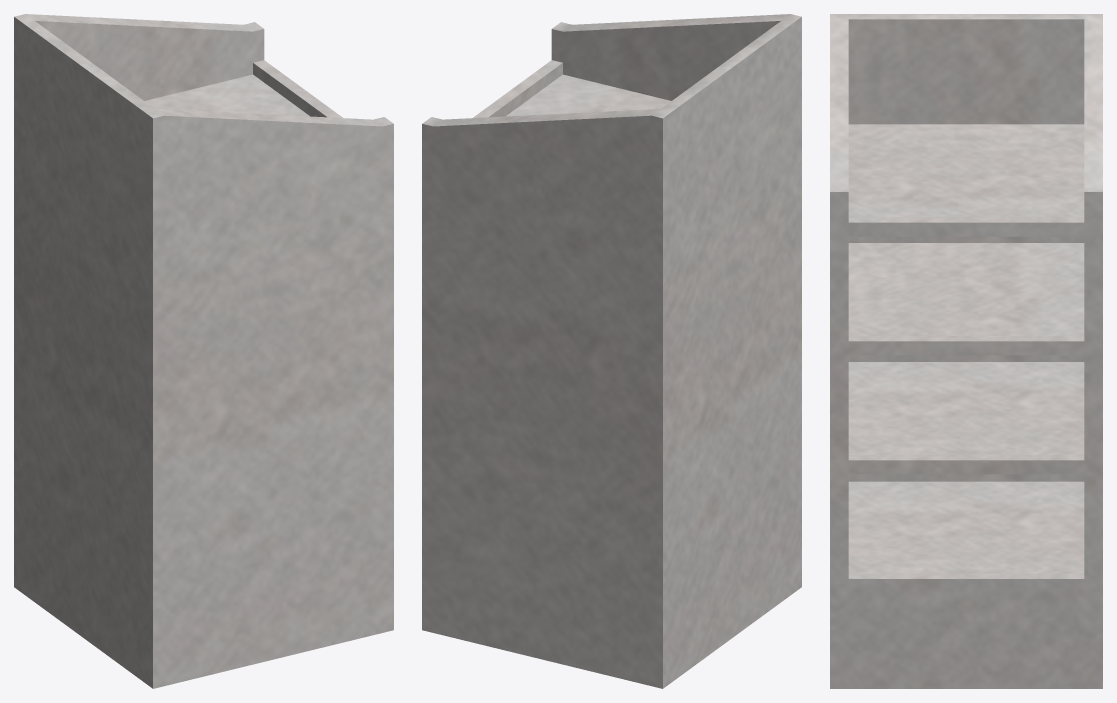
File: shelf_Cardboard.fbx
3 views of the same model, side by side, from view 1: azimuth 30°, elevation 25°; view 2: azimuth 150°, elevation 25°; view 3: azimuth 270°, elevation 25° (orthographic).
Visible parts, largest first — view 1: cardboard_shelf; view 2: cardboard_shelf; view 3: cardboard_shelf.
Part boxes in pixels (x1=…): cardboard_shelf: x1=14, y1=14, x2=393, y2=688; cardboard_shelf: x1=422, y1=14, x2=801, y2=688; cardboard_shelf: x1=830, y1=14, x2=1102, y2=688.
Size of the model in its own units: 63.95 by 145 by 63.94.
